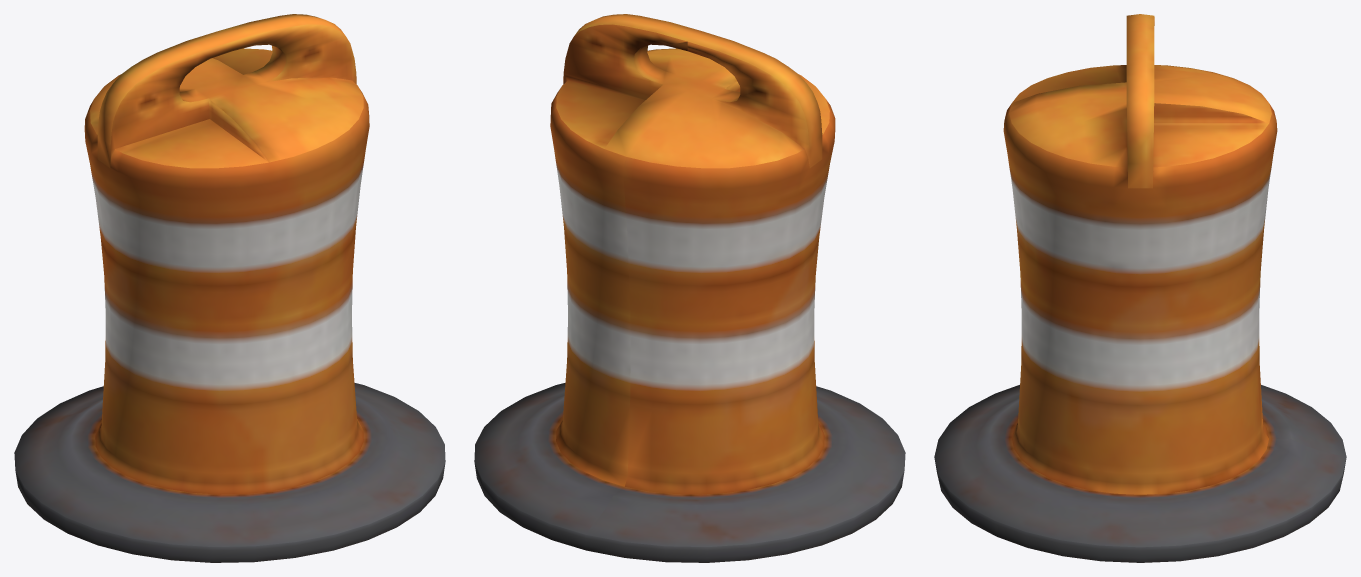
Rendered from nc_prop_drum_01.fbx.
3 renders of one model, left to right at view 1: azimuth 30°, elevation 25°; view 2: azimuth 150°, elevation 25°; view 3: azimuth 270°, elevation 25°, orthographic. The views are drawn at different scales.
Visible parts, largest first — view 1: nc_prop_drum_01_LOD0; view 2: nc_prop_drum_01_LOD0; view 3: nc_prop_drum_01_LOD0.
Part boxes in pixels (<box>): nc_prop_drum_01_LOD0: <box>14,14,445,562</box>; nc_prop_drum_01_LOD0: <box>474,14,905,562</box>; nc_prop_drum_01_LOD0: <box>934,14,1346,562</box>.
Size of what is drawn, in the model's own units: 0.8526 by 0.9541 by 0.8259.
1 material, 1 textured.
